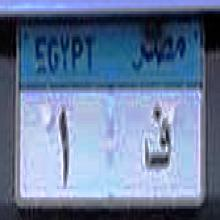1: (57, 102, 73, 189)
faa: (140, 99, 173, 178)
